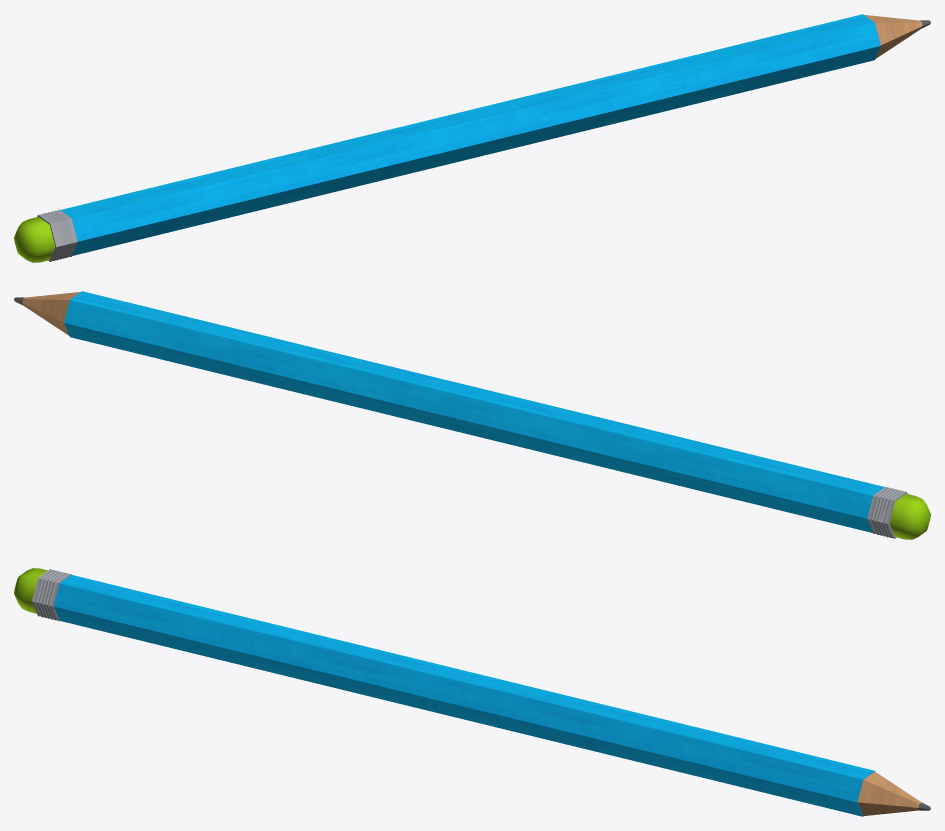
Rendered from Pencil 3.fbx.
The picture shows the model from 3 angles, top to bottom: view 1: azimuth 30°, elevation 25°; view 2: azimuth 150°, elevation 25°; view 3: azimuth 330°, elevation 25°; orthographic projection.
Visible parts, largest first — view 1: Pencil 3; view 2: Pencil 3; view 3: Pencil 3.
Part boxes in pixels (x1,y1,x2,y2): Pencil 3: [14, 14, 930, 262]; Pencil 3: [14, 291, 930, 539]; Pencil 3: [14, 568, 930, 816].
Bounding box in the file's own units: 17.7 × 0.7128 × 0.8231.
1 material, 1 textured.
